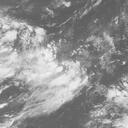cyclone: (18, 47, 89, 105)
